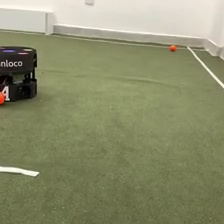ball: (169, 42, 177, 51)
goal: (1, 6, 55, 36)
robot: (1, 44, 39, 102)
